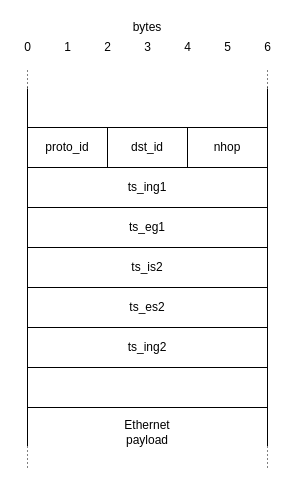
Image size: 294x486. Some labels were removed from this diagram. Here are the shapes that lost their labels. From the top down, the box of each, then its label:
(26, 86, 268, 128): Ethernet header
(26, 366, 268, 408): ts_eg2
